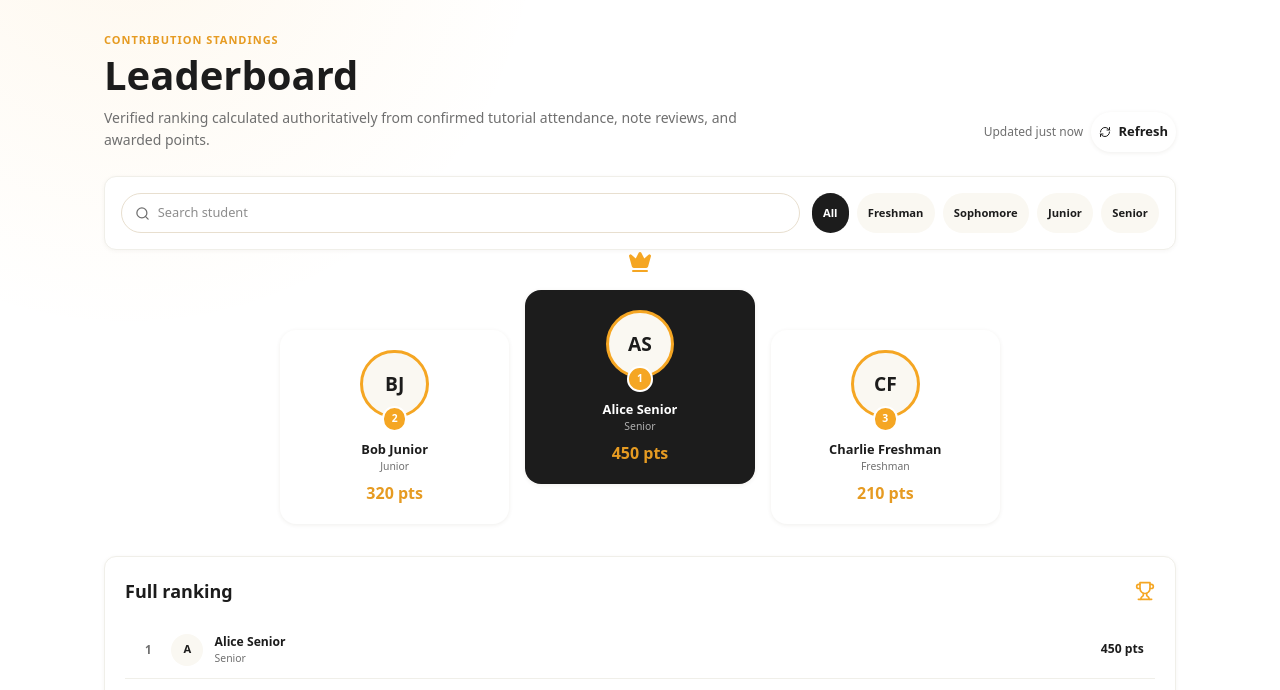
Test case: Synchronization and Leaderboard Remediation › Phase 1 & 2: Server-Authoritative Leaderboard & Scope Preservation › Discards stale out-of-order responses during rapid filter changes
The width and height of the screenshot is (1280, 690).
Note: Rapidly click Senior then Junior
Click the button "Senior" at (1130, 213), box x1=1101 y1=193 x2=1159 y2=234
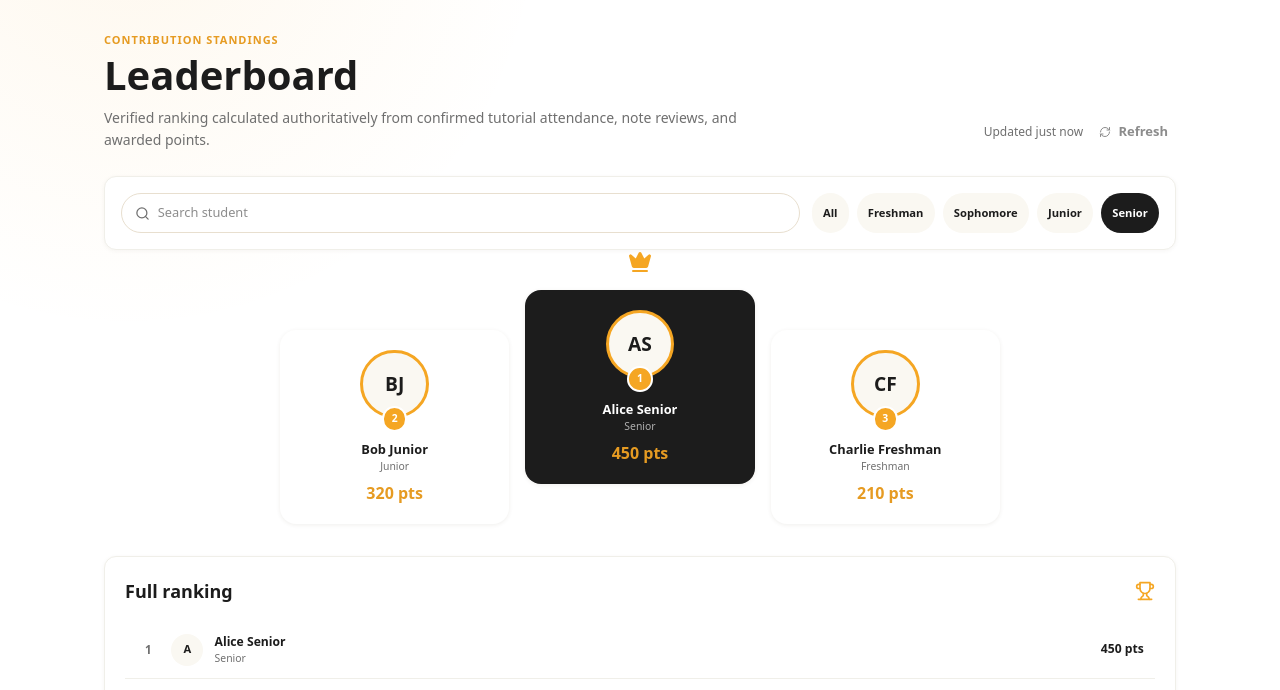
Click the button "Junior" at (1065, 213), box x1=1037 y1=193 x2=1093 y2=234
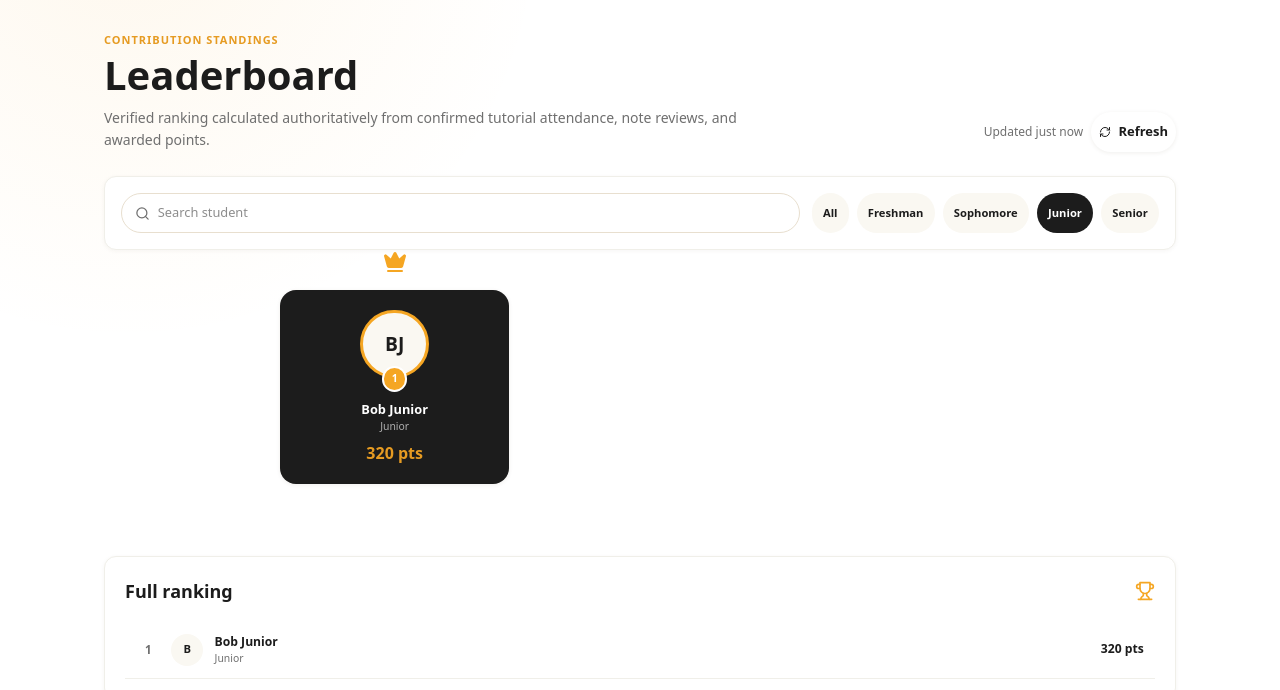
Expected: the heading "Bob Junior" is shown, x1=361 y1=400 x2=428 y2=419
Result: the heading "Alice Senior" is gone
